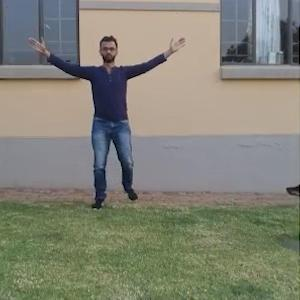takeoff: (27, 29, 188, 211)
